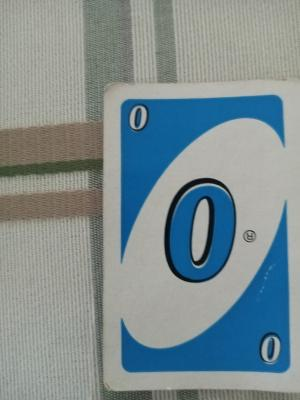blue: (121, 99, 290, 375)
num_0: (124, 103, 159, 133), (258, 328, 282, 371)
